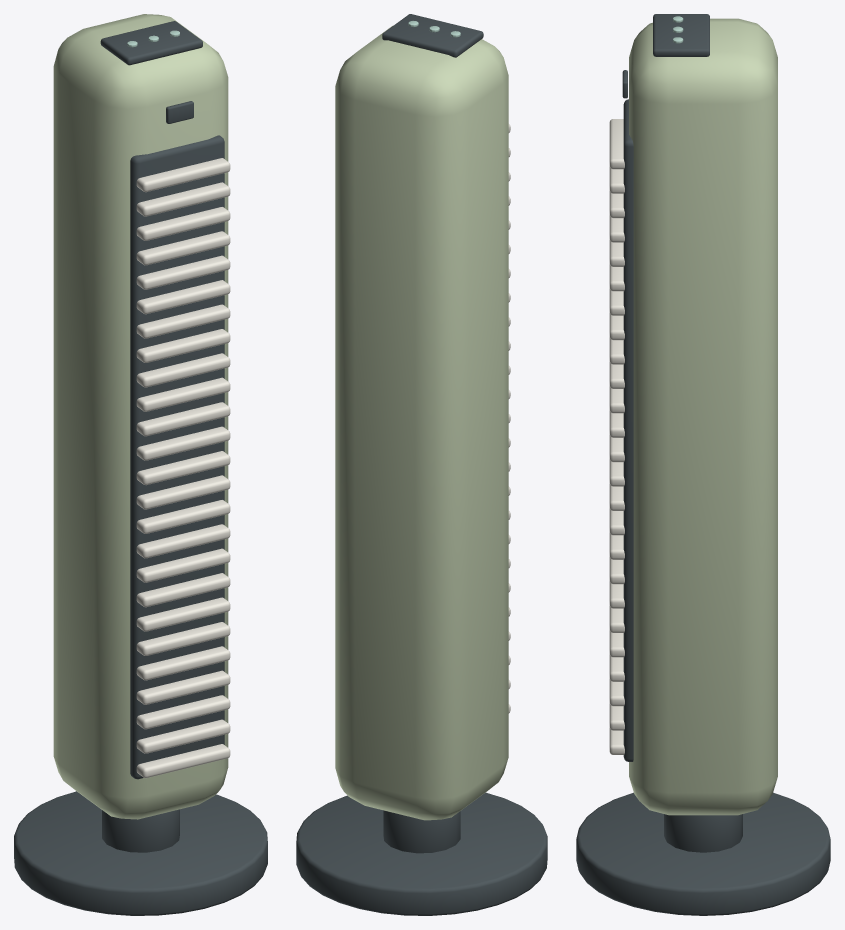
Rendered from tower-fan.glb.
3 renders of one model, left to right at view 1: azimuth 30°, elevation 25°; view 2: azimuth 150°, elevation 25°; view 3: azimuth 270°, elevation 25°, orthographic.
Parts seen in each view (by area): view 1: catalog_surface_RealismUV; view 2: catalog_surface_RealismUV; view 3: catalog_surface_RealismUV.
Part boxes in pixels (left/top/right/bottom): catalog_surface_RealismUV: left=14, top=14, right=267, bottom=915; catalog_surface_RealismUV: left=296, top=14, right=547, bottom=915; catalog_surface_RealismUV: left=576, top=14, right=830, bottom=915.
Bounding box in the file's own units: 0.29 × 1.05 × 0.29.
